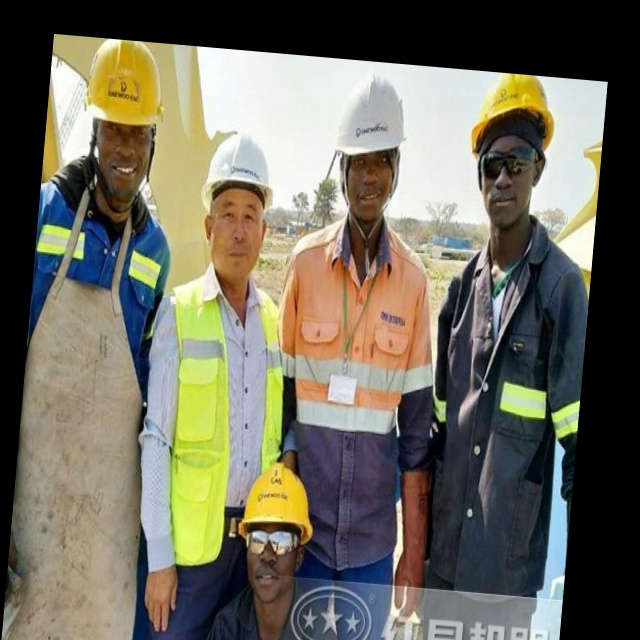Con_Casco: (335, 74, 410, 222)
Con_Chaleco: (152, 271, 291, 518)
